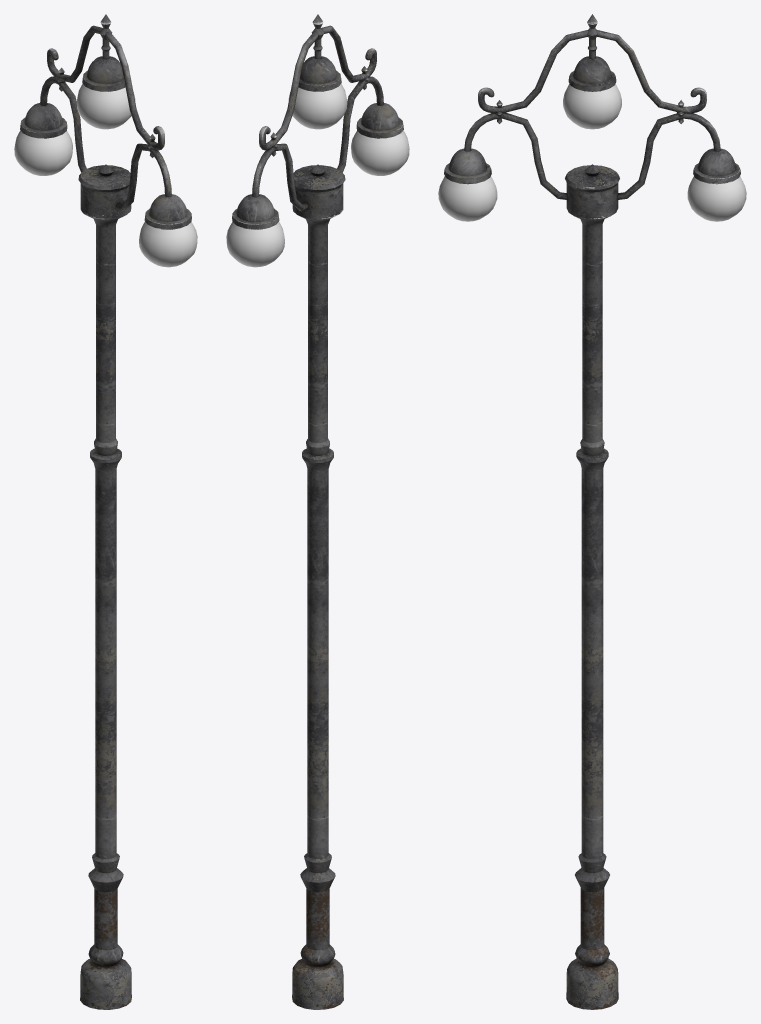
Rendered from fancyLamp.fbx.
3 renders of one model, left to right at view 1: azimuth 30°, elevation 25°; view 2: azimuth 150°, elevation 25°; view 3: azimuth 270°, elevation 25°, orthographic.
Parts seen in each view (by area): view 1: fancyLamp; view 2: fancyLamp; view 3: fancyLamp.
Part boxes in pixels (left/top/right/bottom): fancyLamp: left=14, top=14, right=197, bottom=1009; fancyLamp: left=226, top=14, right=409, bottom=1009; fancyLamp: left=438, top=14, right=746, bottom=1009.
Bounding box in the file's own units: 17.67 × 325 × 92.21.
